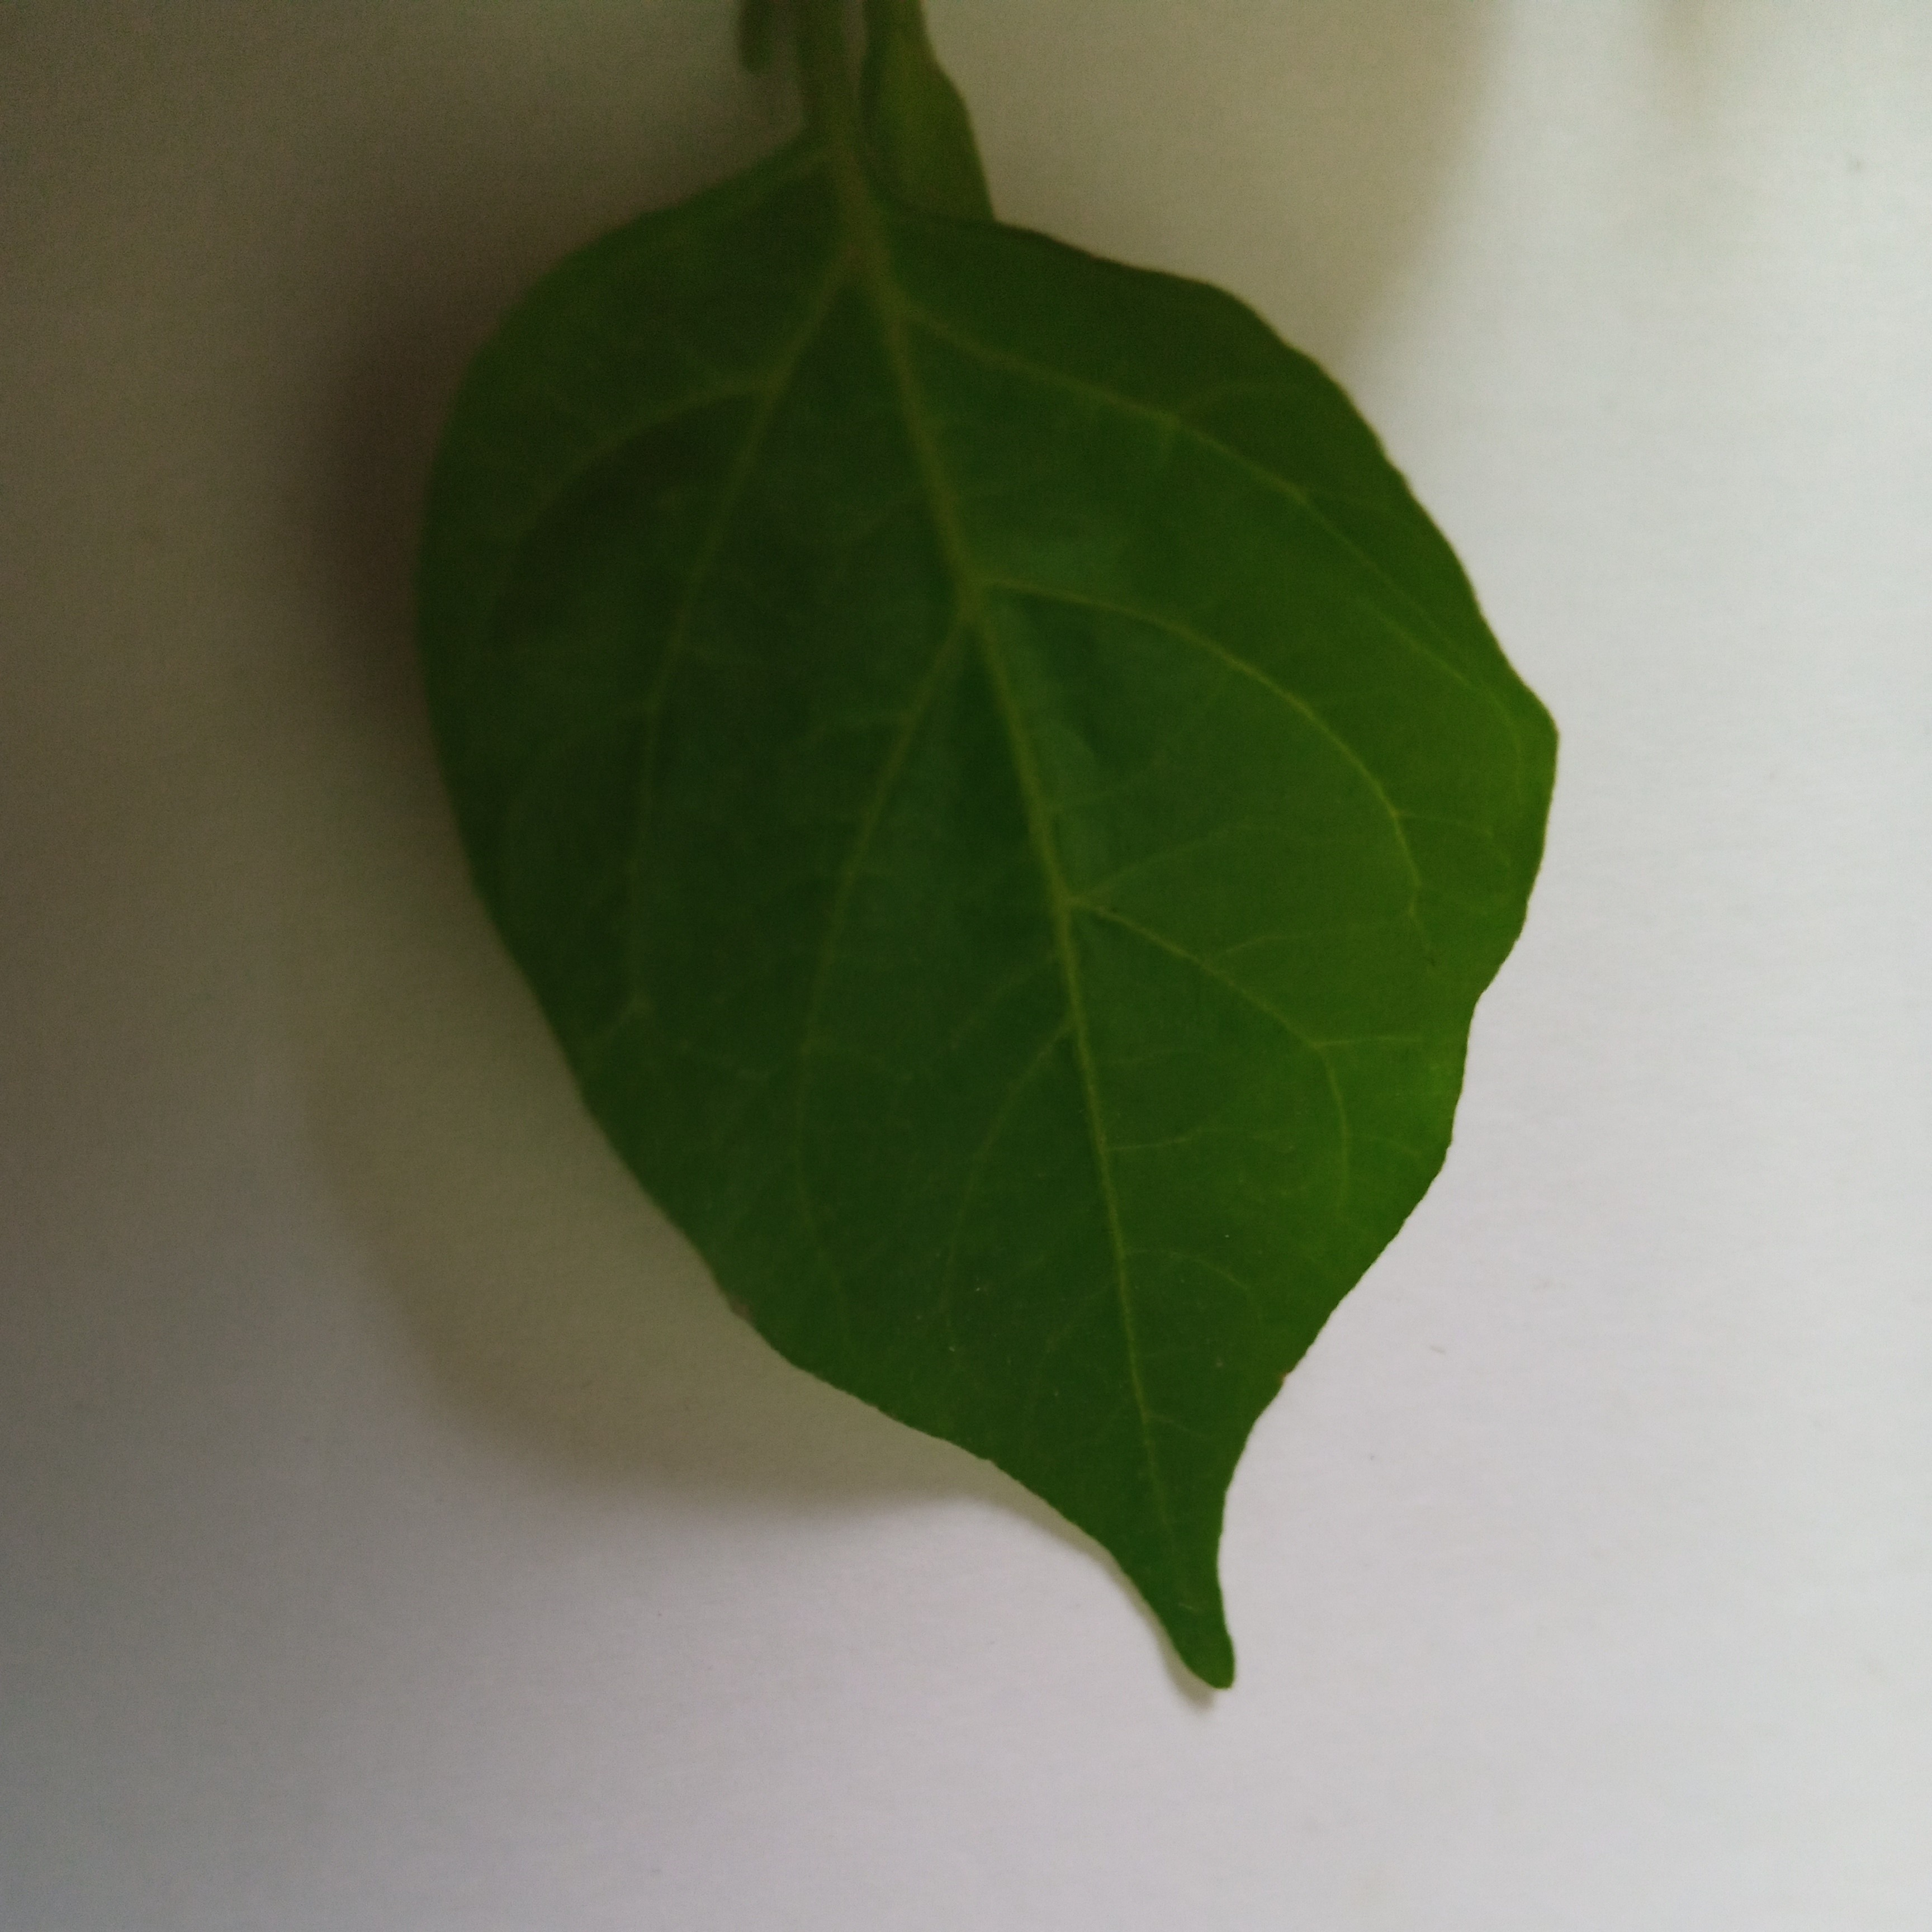Leaf: (313, 92, 1660, 1792)
